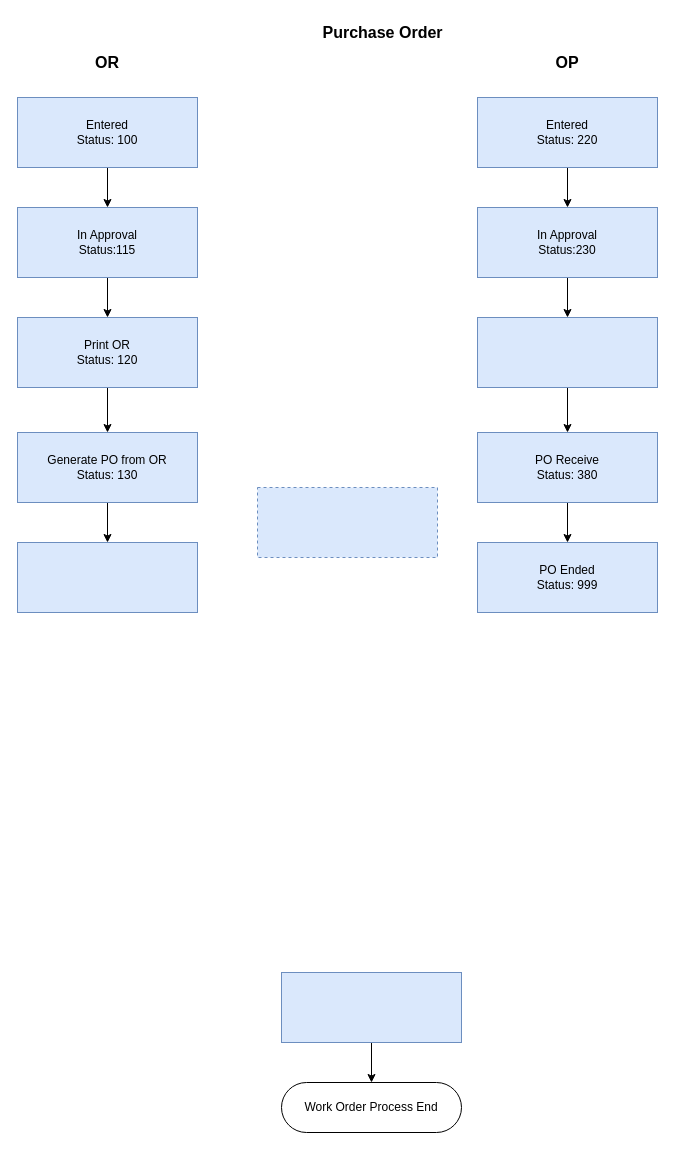
The diagram is 675 pixels wide and 1150 high, and some of its shapes have lost their labels. The centre of each missing label's shape, as x and y in pixels:
Order Cancelled Status: 980: the point at 347,522
Order Comp - Ready To Purge Status: 99: the point at 371,1007
PO Generated from OR Status: 999: the point at 107,577
Print OP Status: 280: the point at 567,352
